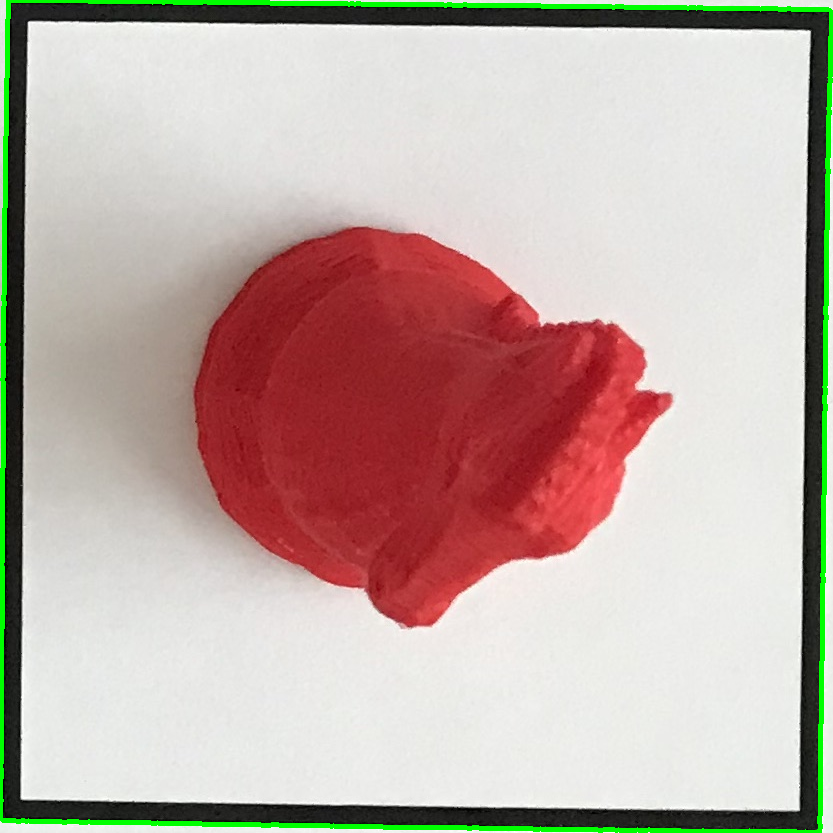Red Knight: (186, 219, 683, 651)
